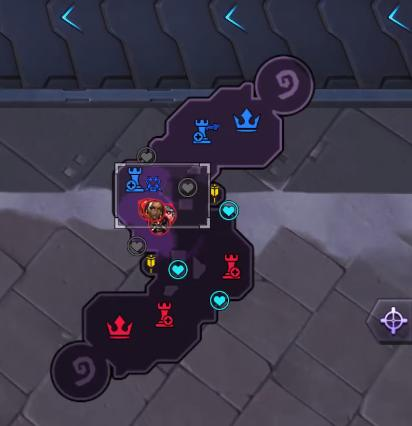blue nexus: (232, 107, 260, 132)
blue tower: (124, 165, 144, 192)
red nexus: (105, 313, 133, 338)
red tower: (221, 253, 241, 279), (154, 301, 174, 327)
